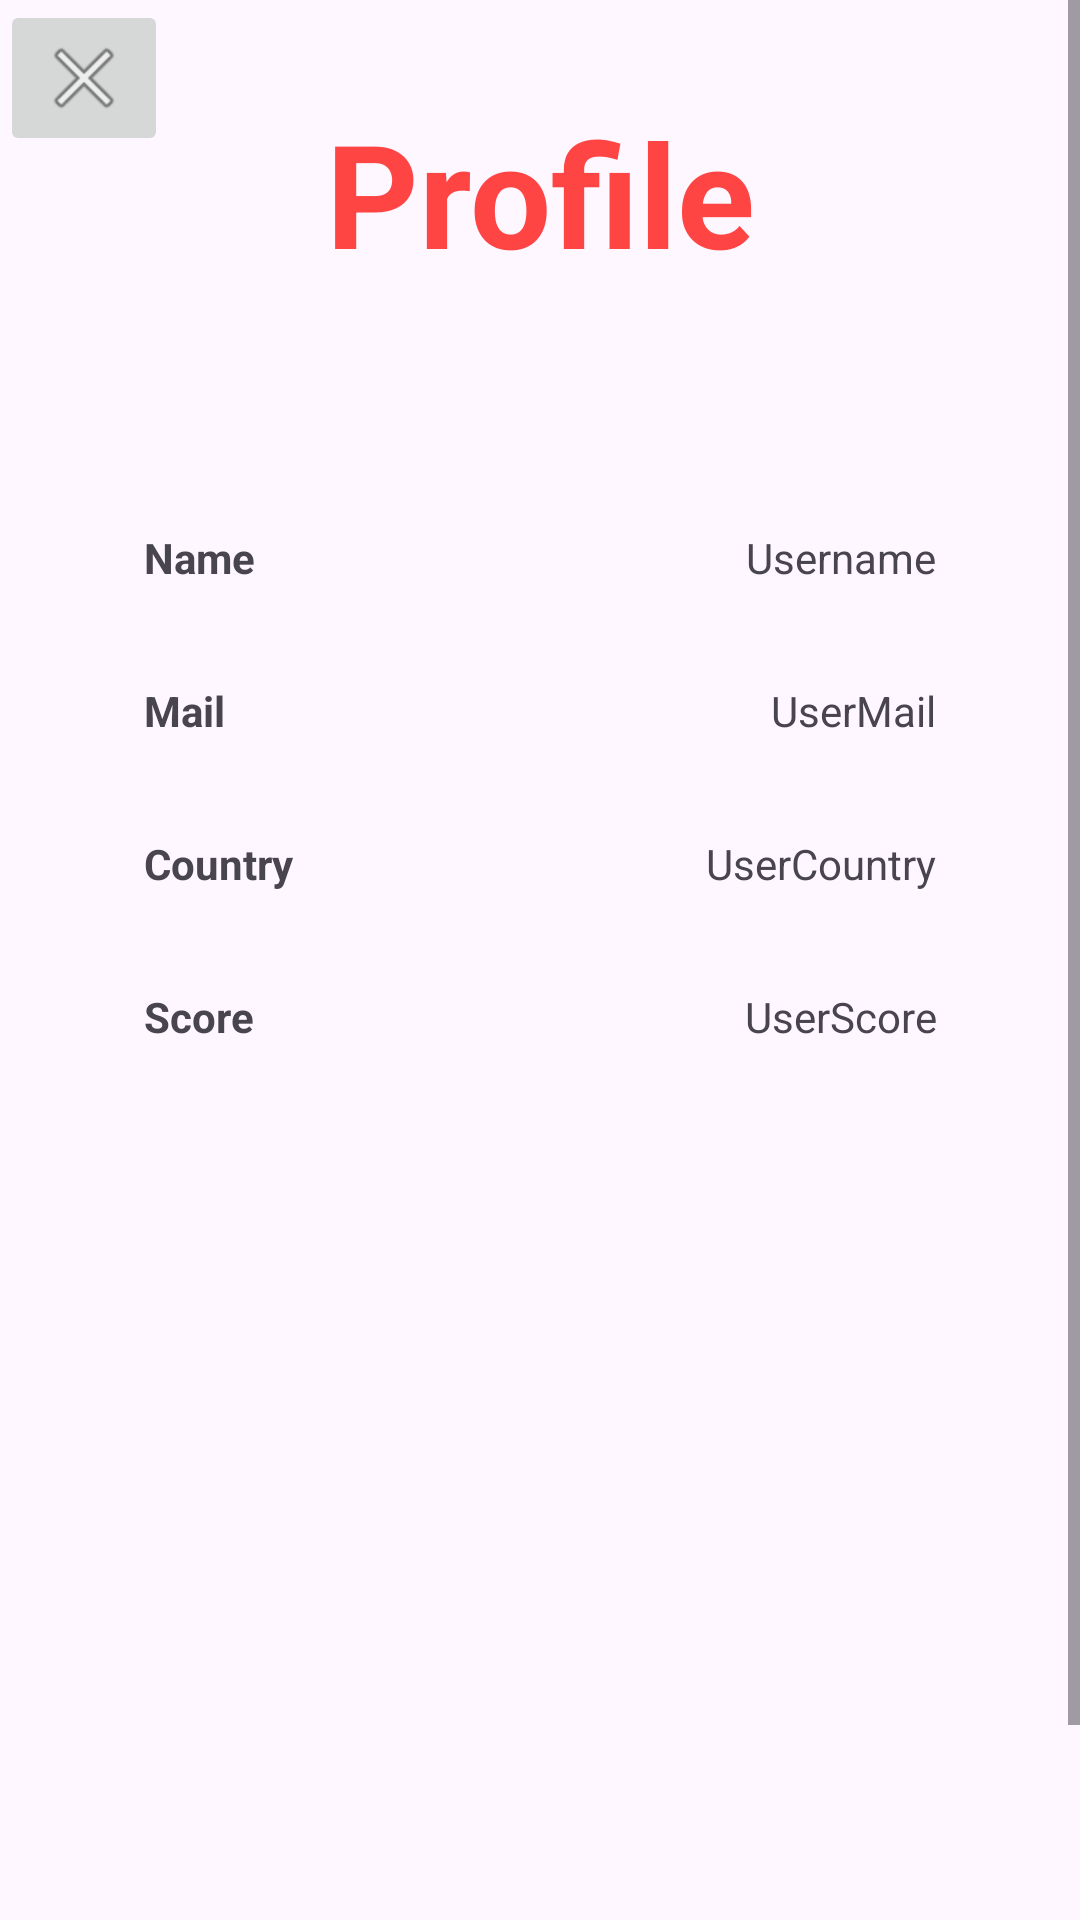

Named icons in this screenshot (1080w x 1920h) and their bounding boxes, [x1, y1, x2, y2]:
close clear cancel: [12, 18, 156, 138]
